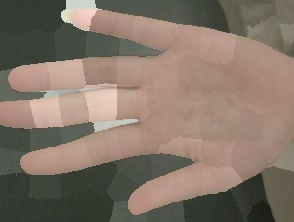SJS-TEN: (119, 0, 294, 204)
